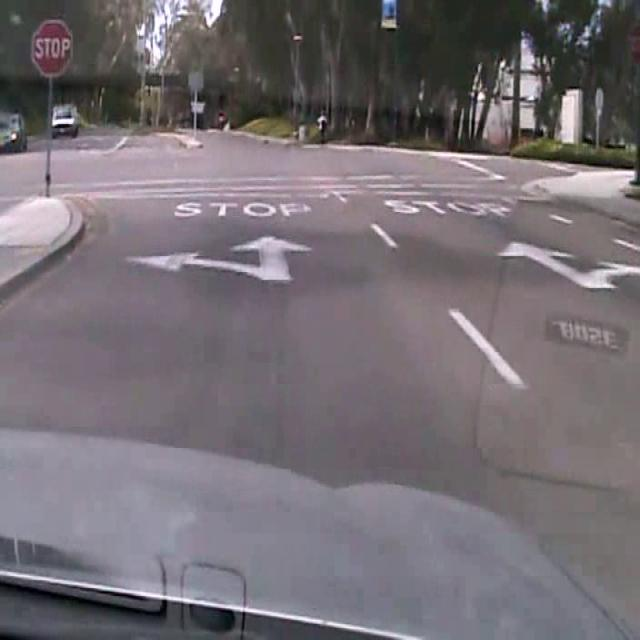stop: (30, 18, 74, 78)
